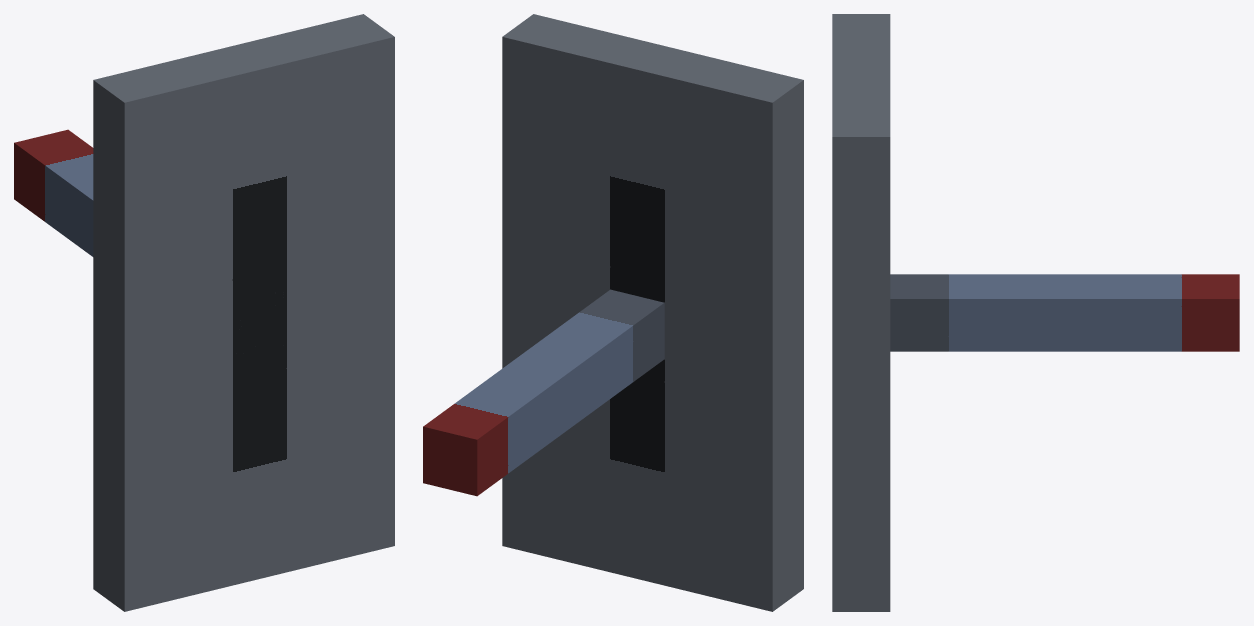
Rendered from Lever.dae.
The picture shows the model from 3 angles, left to right: view 1: azimuth 30°, elevation 25°; view 2: azimuth 150°, elevation 25°; view 3: azimuth 270°, elevation 25°; orthographic projection. The views are drawn at different scales.
Parts seen in each view (by area): view 1: LeverBase-local, LeverRod-local; view 2: LeverBase-local, LeverRod-local; view 3: LeverBase-local, LeverRod-local.
Part boxes in pixels (bbox=[...]): LeverBase-local: bbox=[93, 14, 394, 611]; LeverRod-local: bbox=[14, 129, 93, 256]; LeverBase-local: bbox=[502, 14, 803, 611]; LeverRod-local: bbox=[423, 289, 664, 496]; LeverBase-local: bbox=[832, 14, 890, 611]; LeverRod-local: bbox=[890, 274, 1239, 351].
Bounding box in the file's own units: 5 × 9 × 7.
Materials: 2 (2 with a texture image).
